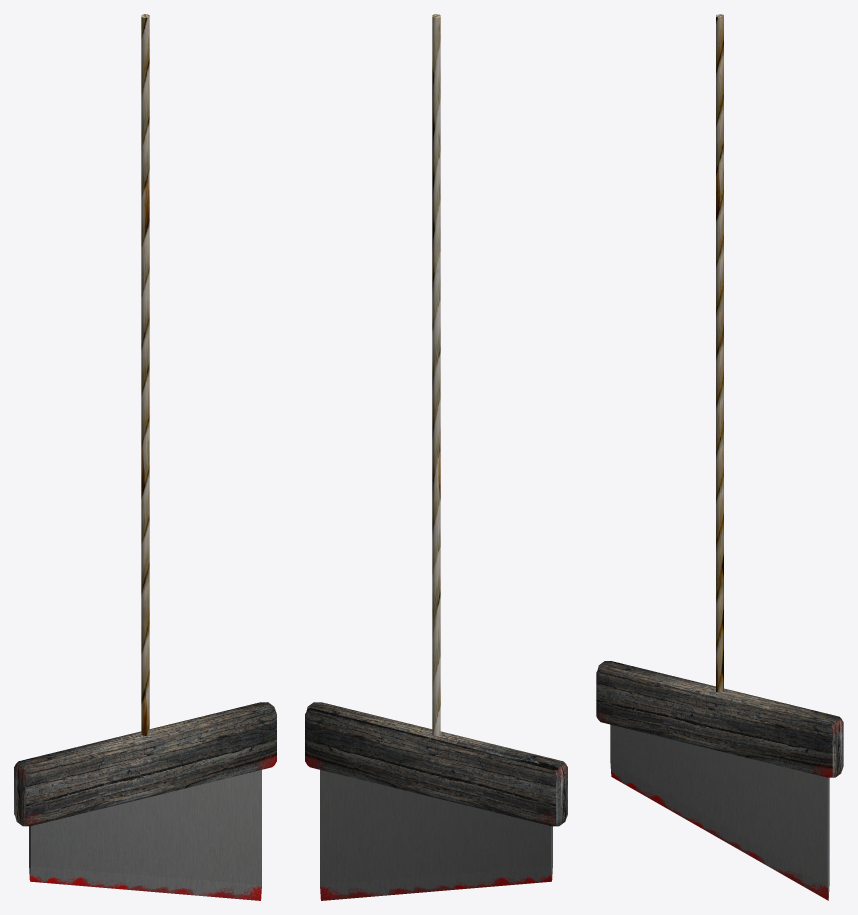
Rendered from Guillotina.fbx.
3 views of the same model, side by side, from view 1: azimuth 30°, elevation 25°; view 2: azimuth 150°, elevation 25°; view 3: azimuth 330°, elevation 25° (orthographic). The views are drawn at different scales.
Visible parts, largest first — view 1: Hoja, Peso, Cuerda; view 2: Hoja, Peso, Cuerda; view 3: Hoja, Peso, Cuerda.
Part boxes in pixels (left/top/right/bottom): Hoja: left=29, top=770, right=261, bottom=900; Peso: left=14, top=702, right=276, bottom=826; Cuerda: left=141, top=14, right=149, bottom=735; Hoja: left=320, top=770, right=552, bottom=900; Peso: left=305, top=702, right=567, bottom=826; Cuerda: left=432, top=14, right=440, bottom=735; Hoja: left=610, top=724, right=829, bottom=900; Peso: left=596, top=661, right=843, bottom=777; Cuerda: left=716, top=14, right=723, bottom=692.
Bounding box in the file's own units: 22 × 75.5 × 2.
